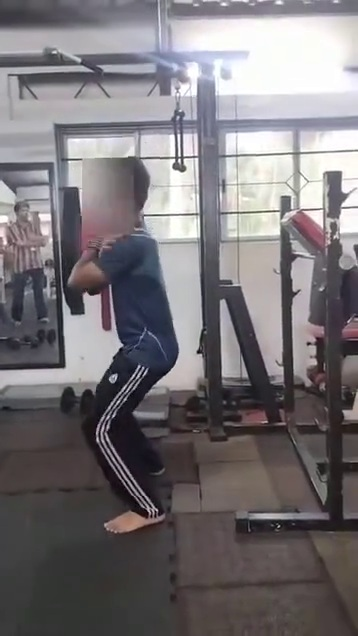squat_incorrect: (53, 206, 189, 558)
